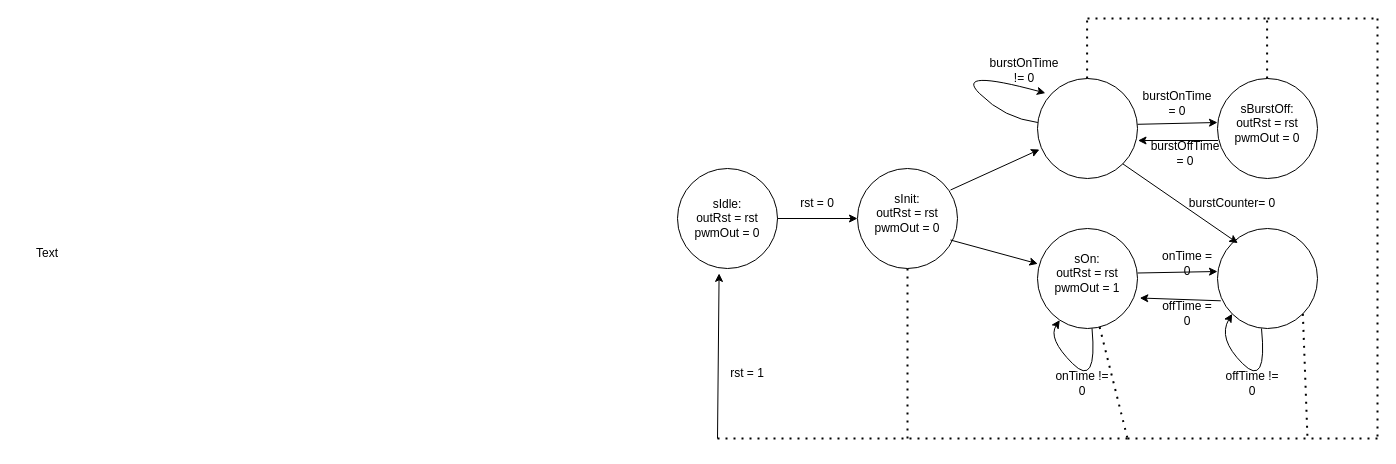
Some shapes in this 1396 by 464 pixel diagram are drawn without their labels. The centre of each missing label's shape, as x and y in pixels:
sBurstOn: outRst = rst pwmOut =1: [1087,128]
sOff: outRst = rst pwmOut = 0: [1267,278]
